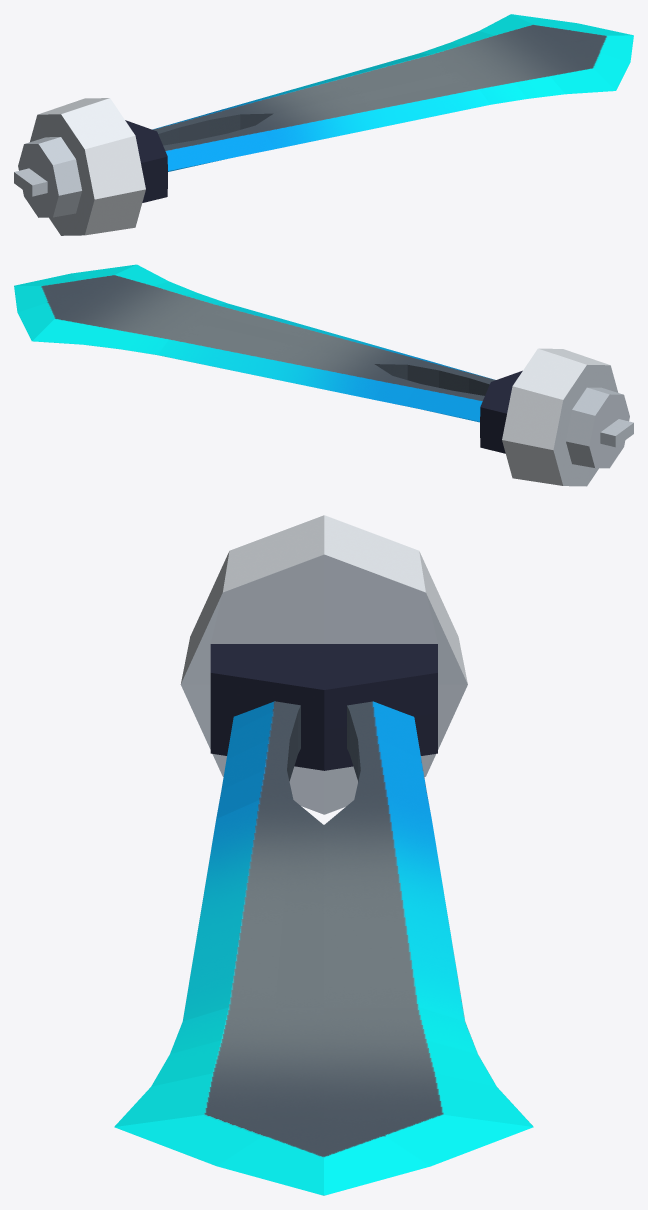
Rendered from char_skinning_sword_uvw_02.FBX.fbx.
The picture shows the model from 3 angles, top to bottom: view 1: azimuth 30°, elevation 25°; view 2: azimuth 150°, elevation 25°; view 3: azimuth 270°, elevation 25°; orthographic projection. The views are drawn at different scales.
Visible parts, largest first — view 1: sword; view 2: sword; view 3: sword.
Part boxes in pixels (x1=…): sword: x1=14, y1=14, x2=633, y2=235; sword: x1=14, y1=264, x2=633, y2=486; sword: x1=114, y1=515, x2=533, y2=1195.
Bounding box in the file's own units: 1.27 × 0.2586 × 0.3781.
